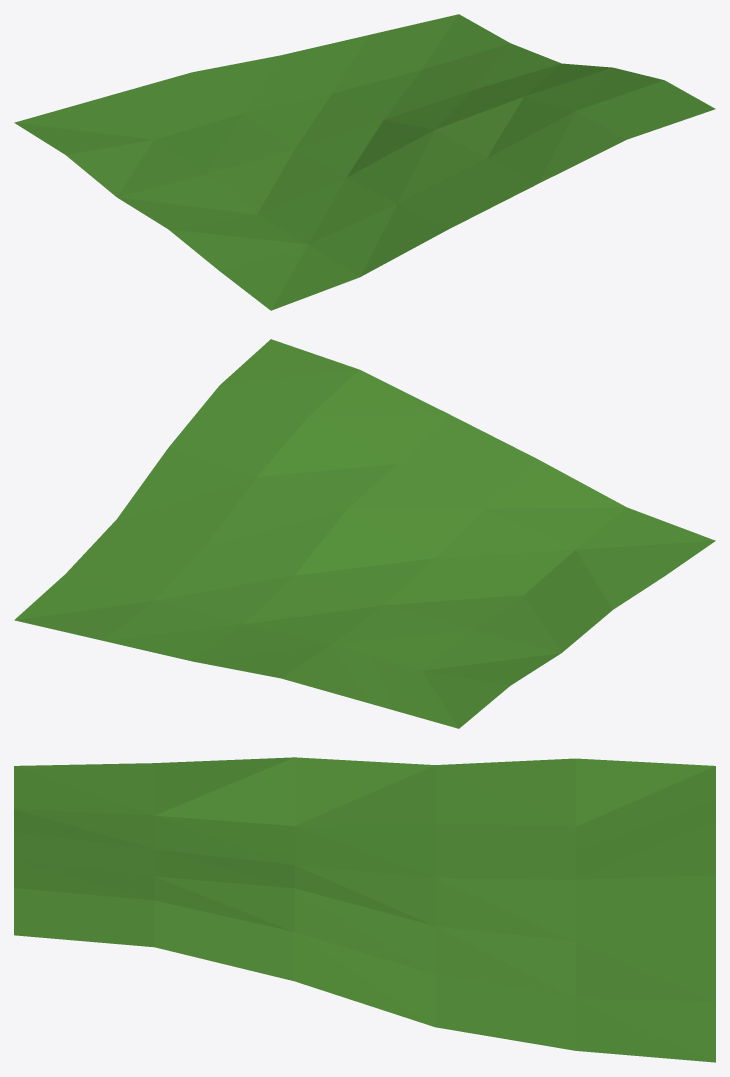
Rendered from terrain-plane-hill2.glb.
3 renders of one model, top to bottom at view 1: azimuth 30°, elevation 25°; view 2: azimuth 150°, elevation 25°; view 3: azimuth 270°, elevation 25°, orthographic. The views are drawn at different scales.
Parts seen in each view (by area): view 1: terrain-plane-hill2; view 2: terrain-plane-hill2; view 3: terrain-plane-hill2.
Part boxes in pixels (x1,y1,x2,y2): terrain-plane-hill2: (14,14,715,310); terrain-plane-hill2: (14,339,715,728); terrain-plane-hill2: (14,757,715,1062).
Size of the model in its own units: 30 by 6.08 by 30.
Materials: 1 (1 with a texture image).
